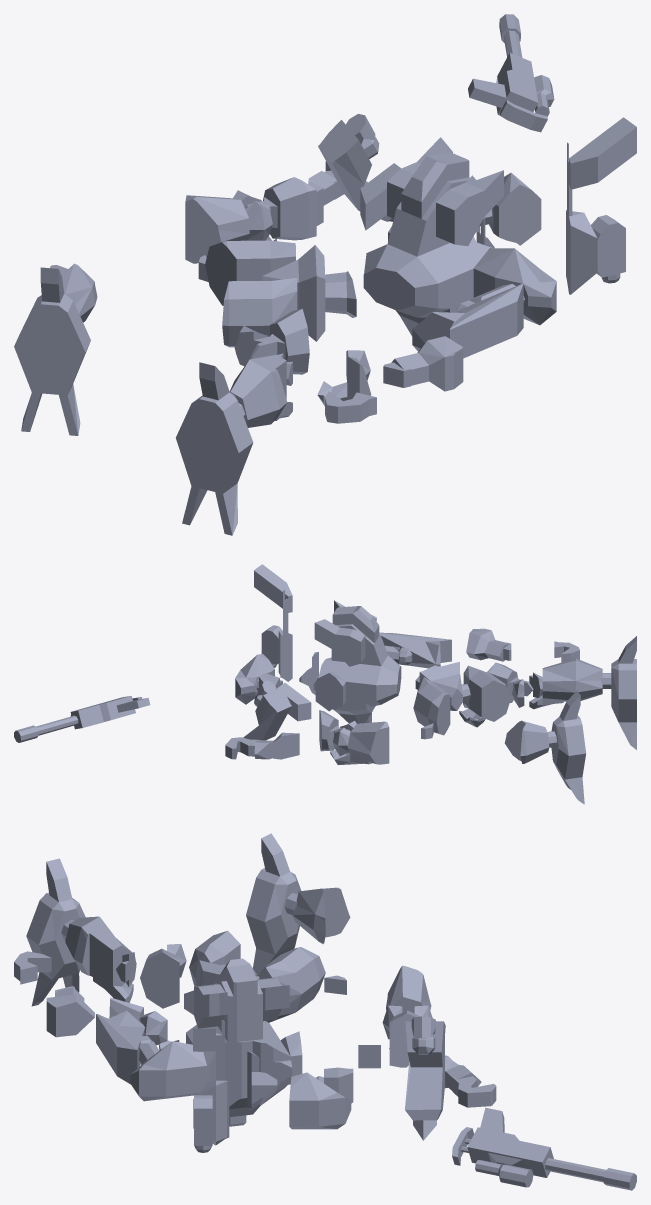
File: sharpshootercorpse.obj
3 renders of one model, top to bottom at view 1: azimuth 30°, elevation 25°; view 2: azimuth 150°, elevation 25°; view 3: azimuth 270°, elevation 25°, orthographic. The views are drawn at different scales.
Size of the model in its own units: 10.2 by 3.01 by 9.14.
